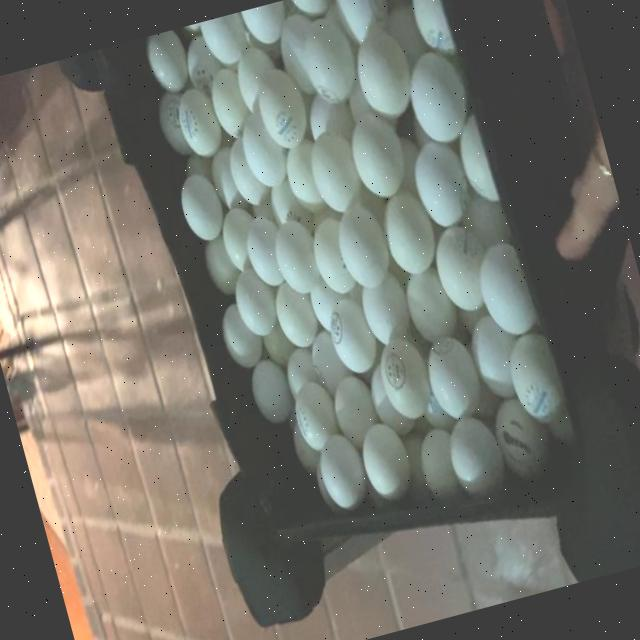ping-pong-ball: (342, 9, 424, 128), (395, 42, 480, 156), (372, 184, 448, 297), (464, 230, 536, 348), (337, 98, 417, 204), (403, 132, 478, 236), (288, 7, 365, 108), (417, 327, 494, 426), (370, 328, 442, 430), (294, 112, 366, 214), (424, 216, 494, 318), (350, 412, 419, 509), (328, 198, 398, 292), (316, 288, 383, 386), (299, 212, 365, 306), (245, 63, 312, 151), (310, 428, 372, 518), (169, 158, 231, 244), (282, 373, 344, 456), (225, 260, 283, 348), (266, 210, 322, 299), (266, 280, 326, 362), (241, 352, 300, 434), (170, 81, 226, 162), (233, 113, 291, 191), (237, 208, 291, 290), (138, 26, 196, 100), (193, 9, 256, 72), (216, 297, 267, 368), (325, 0, 395, 48), (235, 0, 296, 53)
